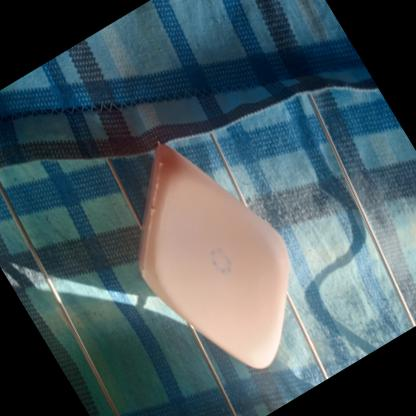Cube: (82, 106, 340, 402)
